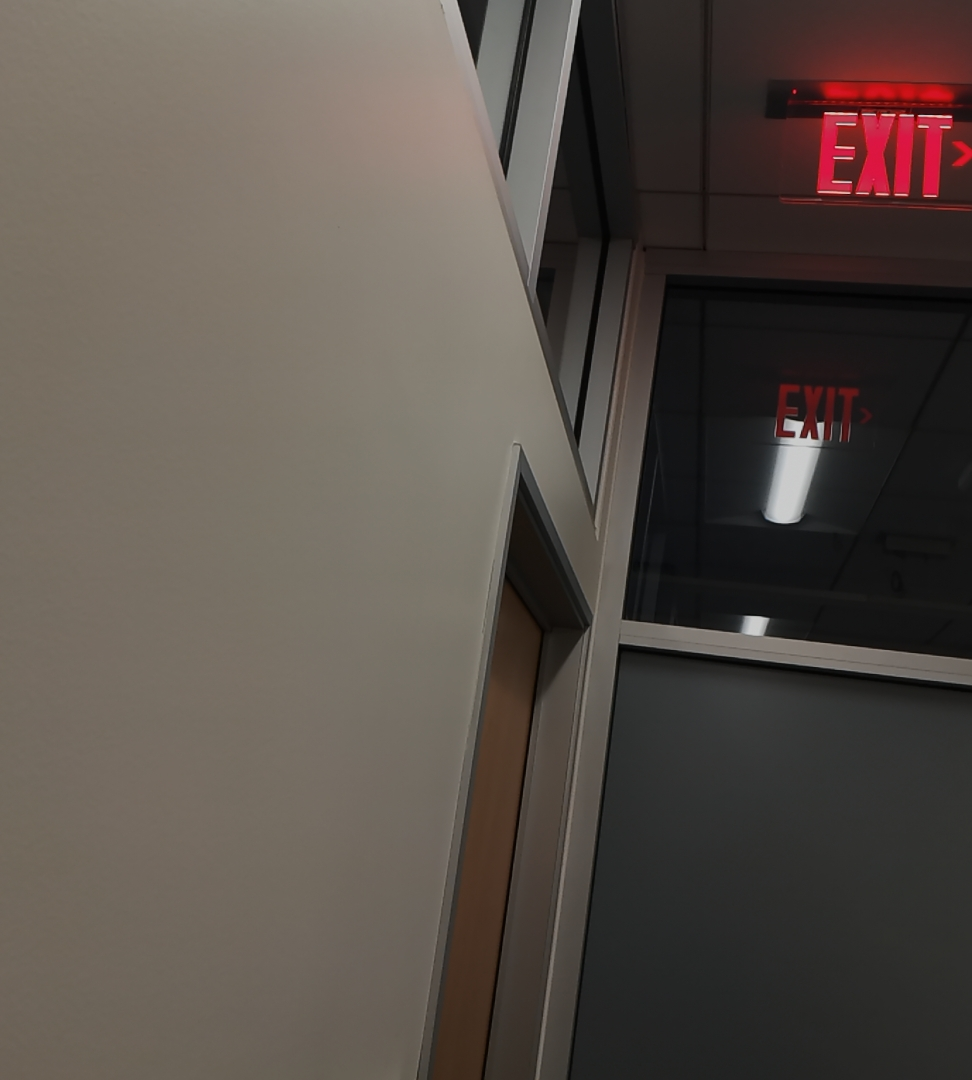emergency_exit: (767, 78, 971, 213)
